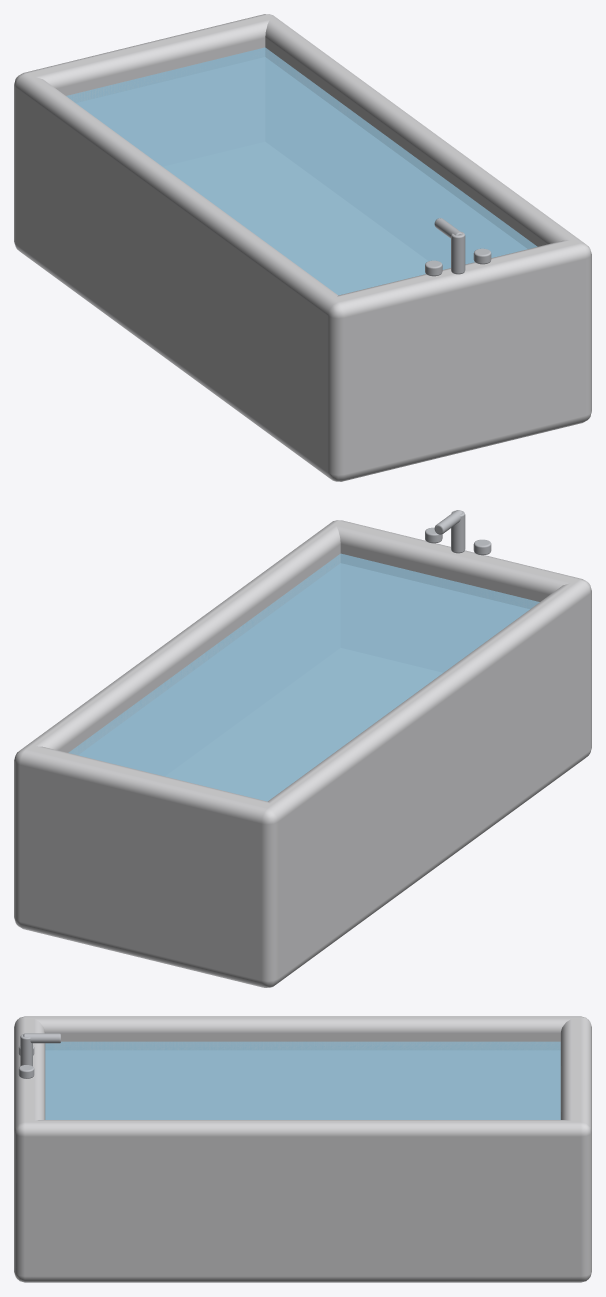
Rendered from bathtub_basic.glb.
3 views of the same model, one above another, from view 1: azimuth 30°, elevation 25°; view 2: azimuth 150°, elevation 25°; view 3: azimuth 270°, elevation 25° (orthographic). The views are drawn at different scales.
Visible parts, largest first — view 1: Cube.003, Cube.005, Cube.002, Cube, Cube.004, Cube.001; view 2: Cube.005, Cube.003, Cube.001, Cube, Cube.004, Cube.002; view 3: Cube.004, Cube.005, Cube, Cube.003, Cube.001, Cube.002, Cylinder, Cylinder.001.
Boxes of the visible parts, bbox=[...] form: Cube.003: bbox=[14, 74, 347, 481]; Cube.005: bbox=[66, 47, 537, 295]; Cube.002: bbox=[322, 239, 591, 481]; Cube: bbox=[16, 205, 584, 471]; Cube.004: bbox=[265, 15, 591, 423]; Cube.001: bbox=[14, 14, 277, 254]; Cube.005: bbox=[68, 553, 539, 801]; Cube.003: bbox=[258, 579, 591, 987]; Cube.001: bbox=[14, 745, 283, 987]; Cube: bbox=[21, 714, 584, 978]; Cube.004: bbox=[15, 520, 342, 926]; Cube.002: bbox=[328, 520, 591, 759]; Cube.004: bbox=[14, 1120, 589, 1282]; Cube.005: bbox=[45, 1041, 560, 1119]; Cube: bbox=[26, 1240, 579, 1274]; Cube.003: bbox=[14, 1016, 590, 1049]; Cube.001: bbox=[560, 1016, 591, 1282]; Cube.002: bbox=[14, 1016, 45, 1282]; Cylinder: bbox=[20, 1034, 32, 1066]; Cylinder.001: bbox=[23, 1033, 60, 1043].
Bounding box in the file's own units: 0.86 × 0.686 × 1.84.
